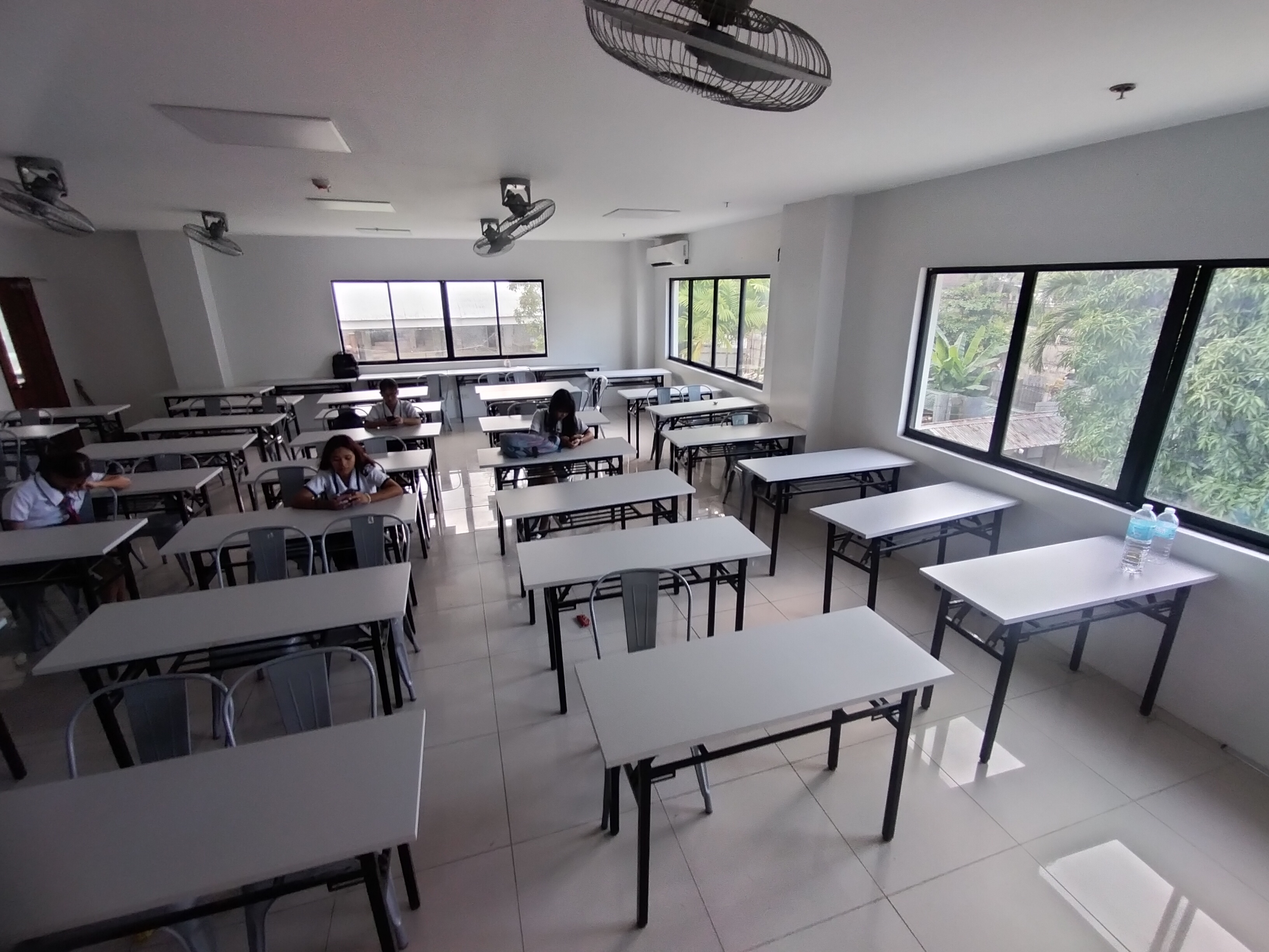with-student: (153, 432, 419, 561), (0, 442, 152, 594), (476, 387, 639, 476), (287, 374, 442, 449)
